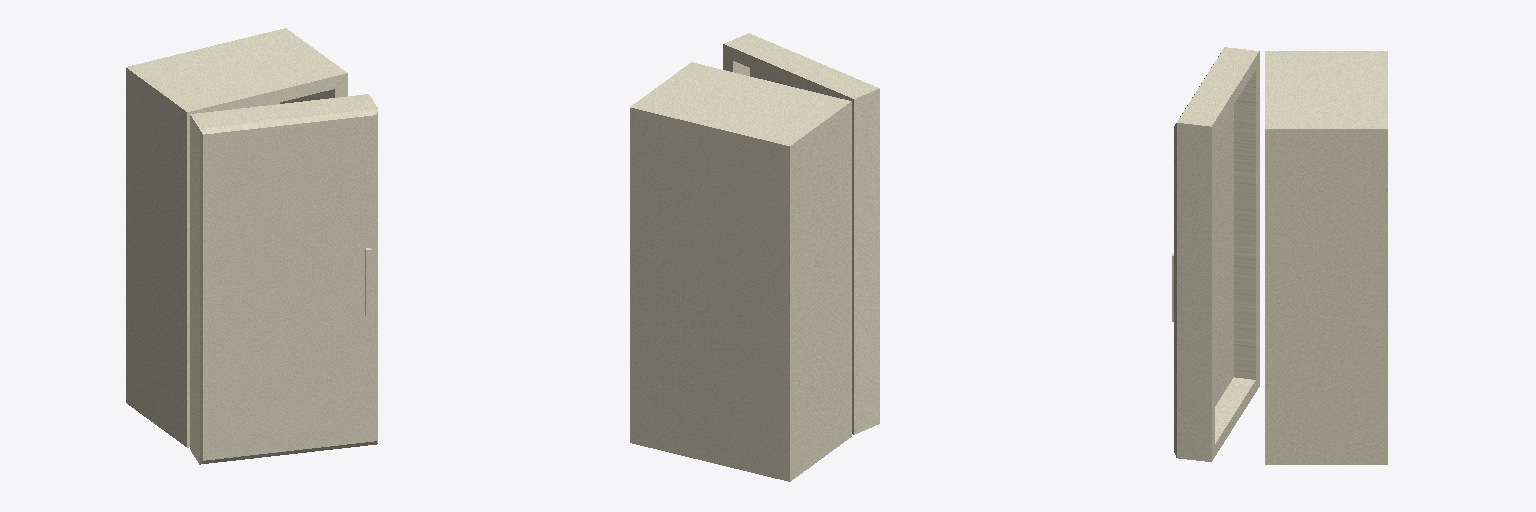
3 renders of one model, left to right at view 1: azimuth 30°, elevation 25°; view 2: azimuth 150°, elevation 25°; view 3: azimuth 270°, elevation 25°, orthographic.
Parts seen in each view (by area): view 1: Box001; view 2: Box001; view 3: Box001.
Boxes of the visible parts, box(x1,y1,x2,y2) form: Box001: box(126, 28, 377, 464); Box001: box(630, 33, 879, 481); Box001: box(1174, 47, 1387, 464).
Bounding box in the file's own units: 0.63 × 1.2 × 0.7022.
Materials: 1 (1 with a texture image).